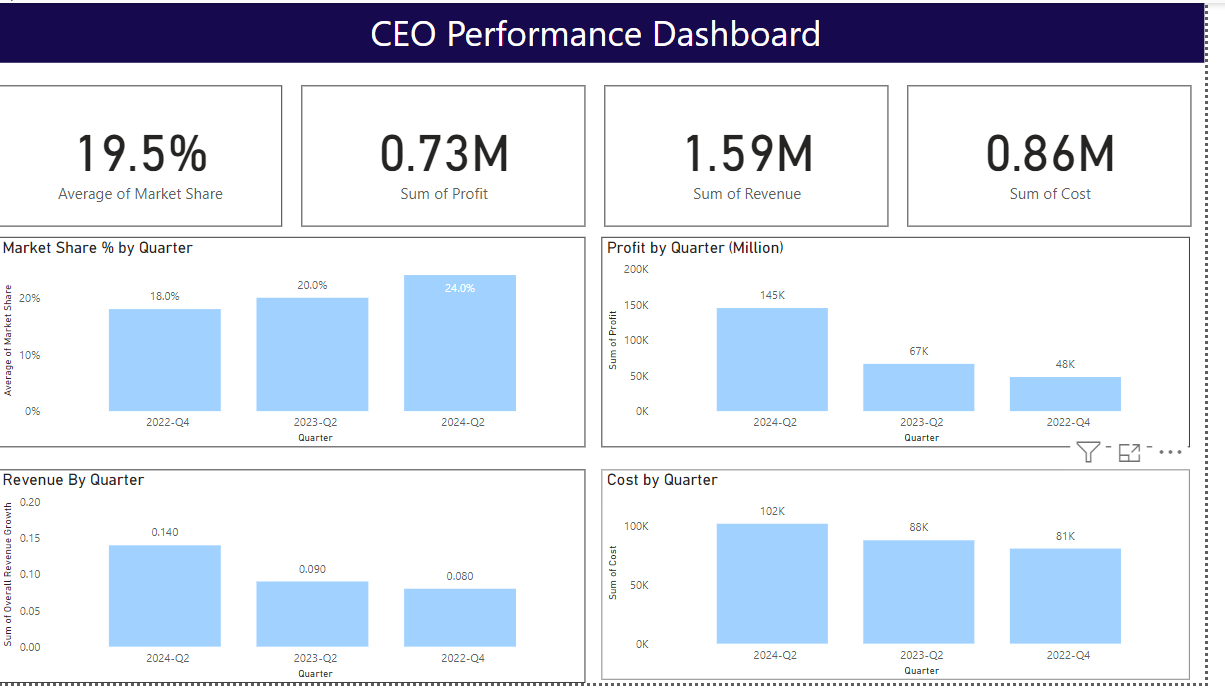

The page's visual inventory and layout, read from the dashboard file:
{"tool":"powerbi","page":{"name":"CEO","canvas":[1280,720],"ordinal":0},"visuals":[{"type":"card","fields":{"Values":["Sum(CEO.Revenue)"]},"box":[643.7,87.4,300.4,149.4],"z":0},{"type":"card","fields":{"Values":["Sum(CEO.Profit)"]},"box":[322.6,87.4,300.4,149.4],"z":1000},{"type":"card","fields":{"Values":["Sum(CEO.Cost)"]},"box":[964.8,87.4,300.4,149.4],"z":2000},{"type":"card","fields":{"Values":["Avg(CEO.Market Share)"]},"box":[0,87.4,302,149.4],"z":3000},{"type":"textbox","box":[0,0,1279.5,63.6],"z":4000},{"type":"columnChart","title":"Market Share % by Quarter","fields":{"Y":["Avg(CEO.Market Share)"],"Category":["CEO.Quarter"]},"box":[0,248.7,623,222.5],"z":5000},{"type":"columnChart","title":"Revenue By Quarter","fields":{"Y":["Sum(CEO.Overall Revenue Growth)"],"Category":["CEO.Quarter"]},"box":[0,494.3,623,225.7],"z":6000},{"type":"columnChart","title":"Profit by Quarter (Million)","fields":{"Y":["Sum(CEO.Profit)"],"Category":["CEO.Quarter"]},"box":[640.5,248.7,623,222.5],"z":7000},{"type":"columnChart","title":"Cost by Quarter","fields":{"Y":["Sum(CEO.Cost)"],"Category":["CEO.Quarter"]},"box":[640.5,494.3,623,222.5],"z":8000}]}

Visuals, with their boxes in screenshot pixels (x1, y1, x2, y2), scaled from the page's 1280x720 canvas onto the 1225x688 screenshot:
card - Sum(CEO.Revenue): (616, 84, 904, 226)
card - Sum(CEO.Profit): (309, 84, 596, 226)
card - Sum(CEO.Cost): (923, 84, 1211, 226)
card - Avg(CEO.Market Share): (0, 84, 289, 226)
textbox: (0, 0, 1224, 61)
"Market Share % by Quarter" columnChart: (0, 238, 596, 450)
"Revenue By Quarter" columnChart: (0, 472, 596, 687)
"Profit by Quarter (Million)" columnChart: (613, 238, 1209, 450)
"Cost by Quarter" columnChart: (613, 472, 1209, 685)
